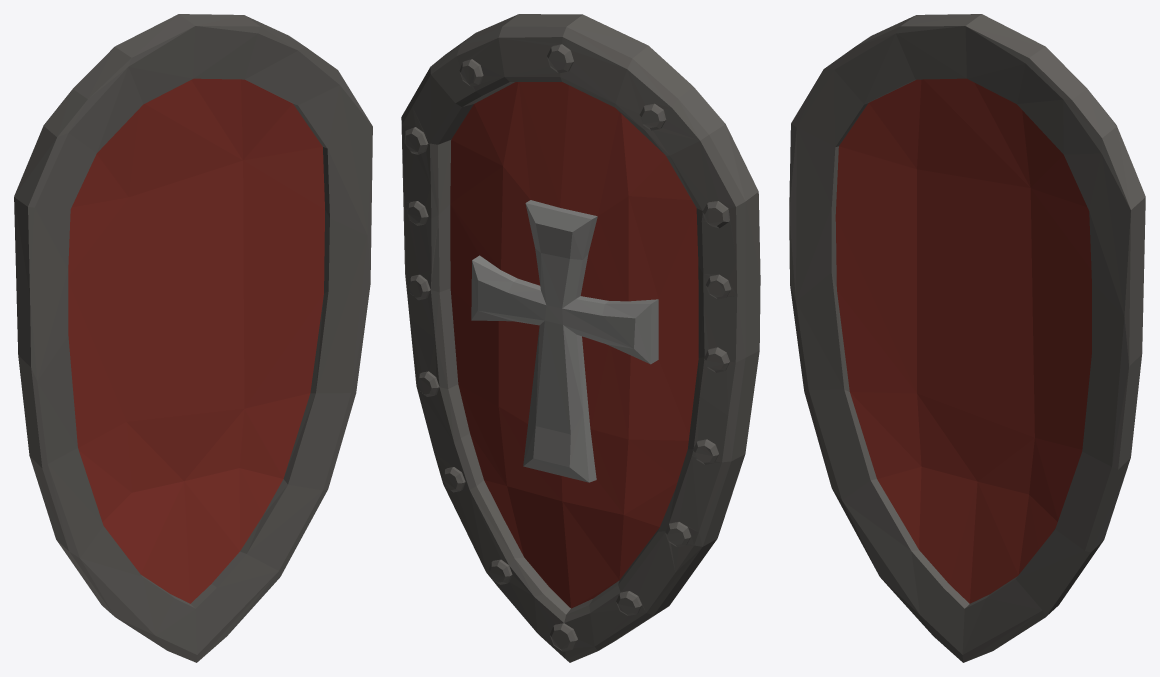
Rendered from RedKiteShield.fbx.
The picture shows the model from 3 angles, left to right: view 1: azimuth 30°, elevation 25°; view 2: azimuth 150°, elevation 25°; view 3: azimuth 330°, elevation 25°; orthographic projection.
Visible parts, largest first — view 1: RedKiteShield; view 2: RedKiteShield; view 3: RedKiteShield.
Boxes of the visible parts, <box> form: RedKiteShield: <box>14,14,372,662</box>; RedKiteShield: <box>401,14,760,662</box>; RedKiteShield: <box>789,14,1145,662</box>.
Size of the model in its own units: 0.6645 by 0.1281 by 1.18.
